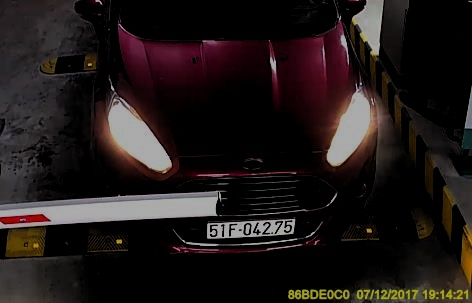plate: (203, 216, 296, 239)
